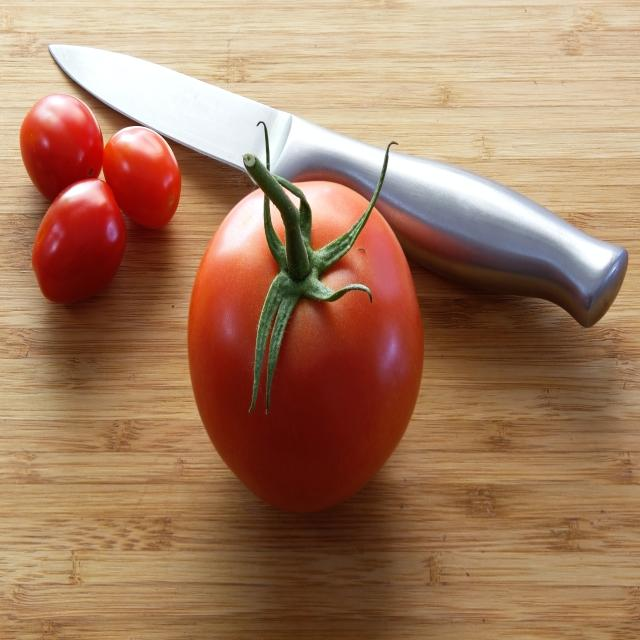Tomato: (196, 142, 426, 503)
